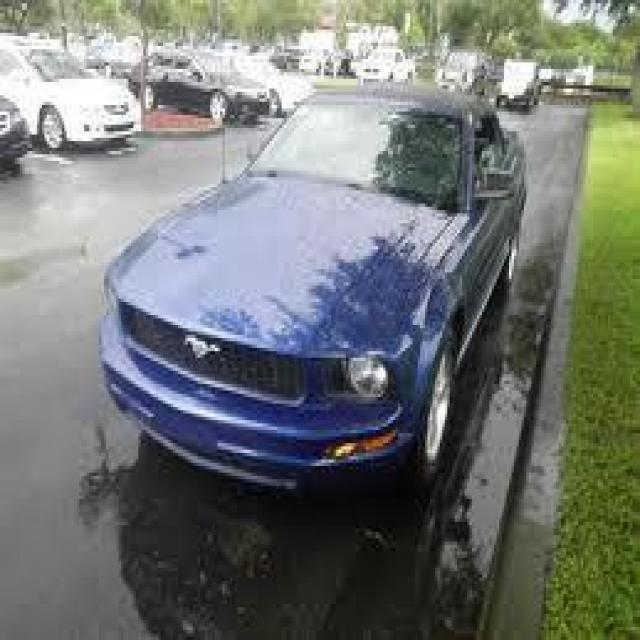Car: (95, 82, 545, 522)
